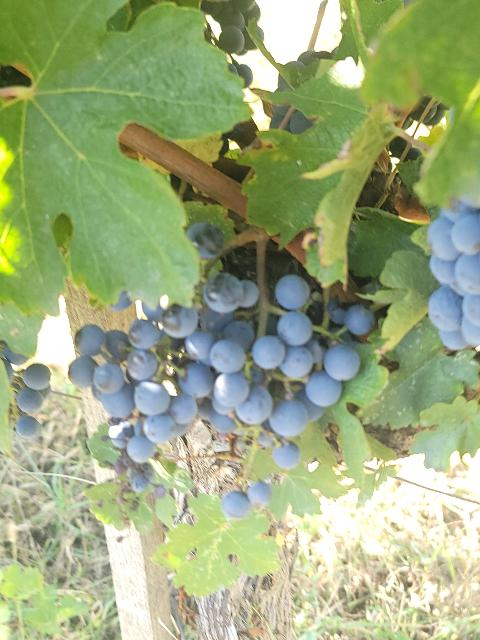grapes: (70, 272, 360, 471)
